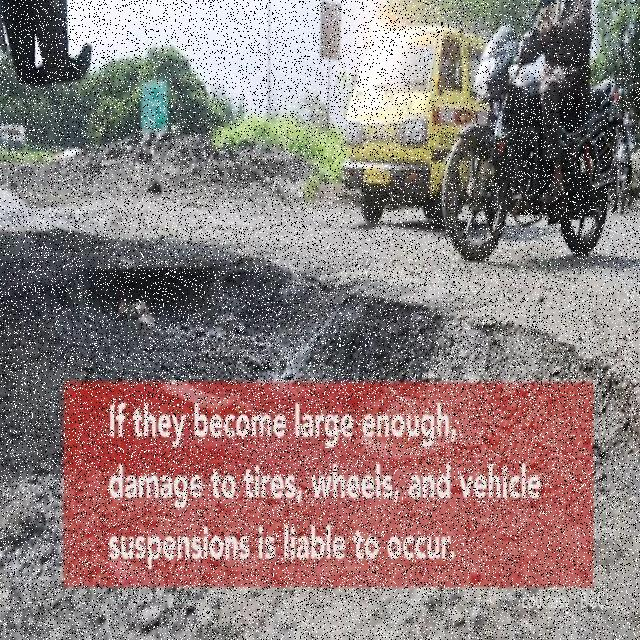pothole: (4, 266, 633, 561)
